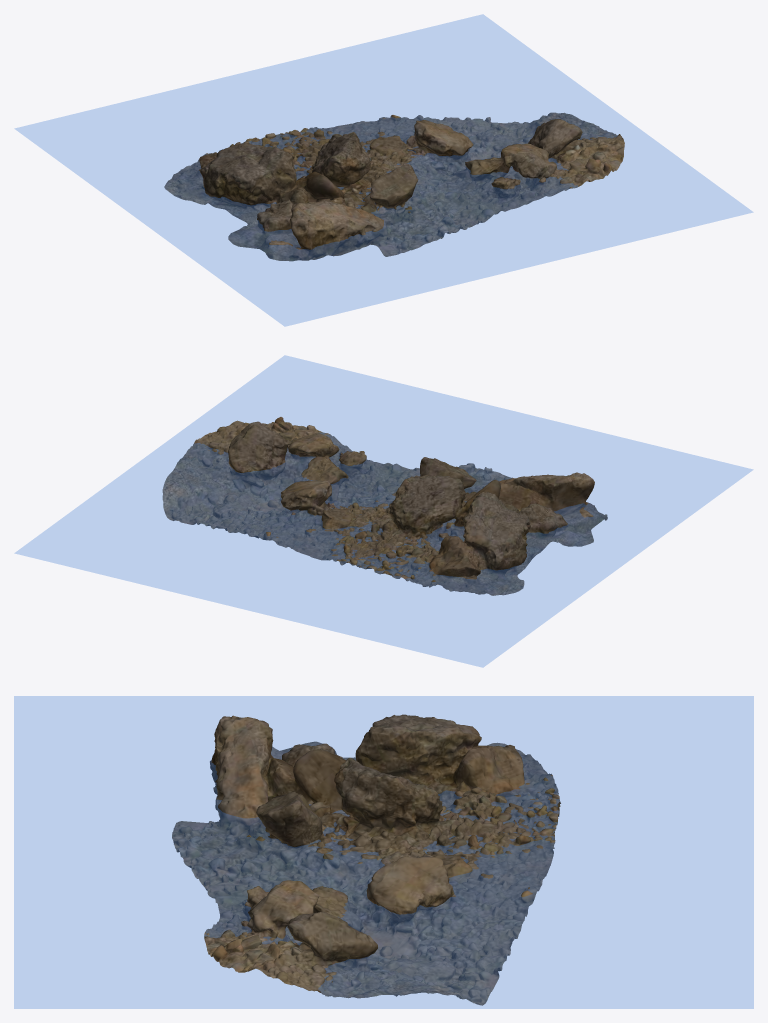
Rendered from ShallowWaterTest.glb.
3 views of the same model, one above another, from view 1: azimuth 30°, elevation 25°; view 2: azimuth 150°, elevation 25°; view 3: azimuth 270°, elevation 25° (orthographic). The views are drawn at different scales.
Parts seen in each view (by area): view 1: Water, coast_land_rocks_03_LOD0.002; view 2: Water, coast_land_rocks_03_LOD0.002; view 3: Water, coast_land_rocks_03_LOD0.002.
Boxes of the visible parts, x1,y1,x2,y2 form: Water: [15, 14, 752, 326]; coast_land_rocks_03_LOD0.002: [164, 112, 624, 261]; Water: [15, 355, 752, 667]; coast_land_rocks_03_LOD0.002: [162, 417, 607, 595]; Water: [14, 696, 753, 1008]; coast_land_rocks_03_LOD0.002: [172, 714, 560, 1005].
Size of the model in its own units: 10.7 by 1.48 by 10.7.
Materials: 2 (1 with a texture image).
